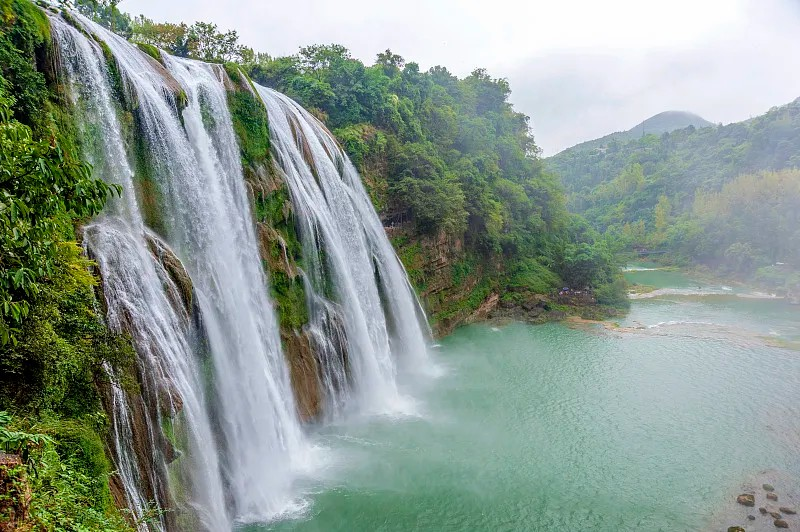Huangguoshu: (40, 9, 438, 532)
